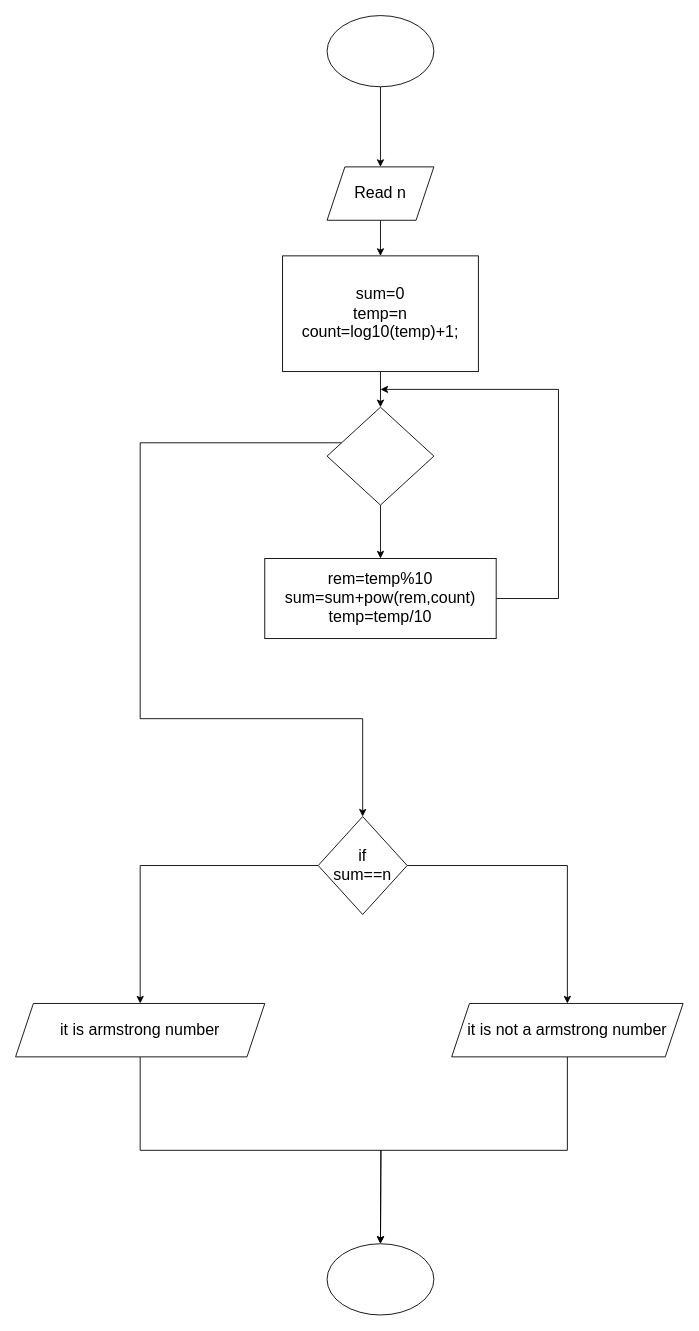
Some shapes in this 699 by 1331 pixel diagram are drawn without their labels. Each missing label, with the centre of its shape:
"Exit" belongs at (380,1279).
"if temp>0" belongs at (380,455).
"start" belongs at (380,51).
